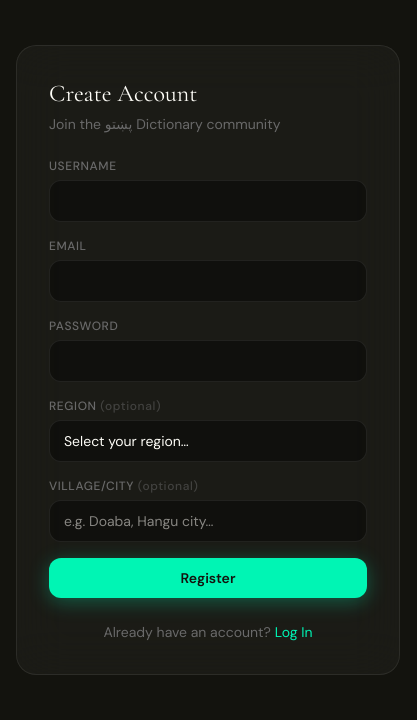
it: Register page › shows a validation error when username is empty on submit
The image size is (417, 720).
Click the button "Register": click(208, 578) [49, 558, 367, 598]
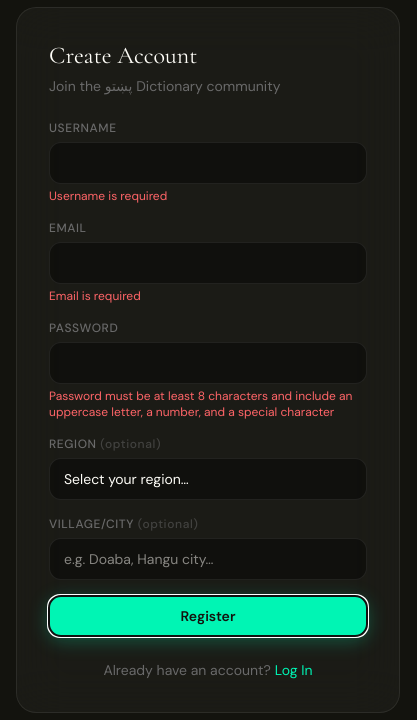
Expected: the text "Username is required" is shown, [49, 188, 167, 204]
